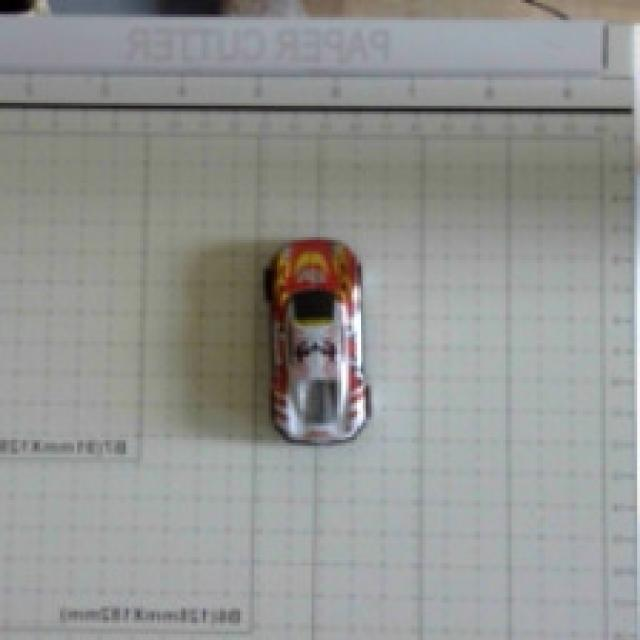Red Car: (209, 204, 410, 501)
